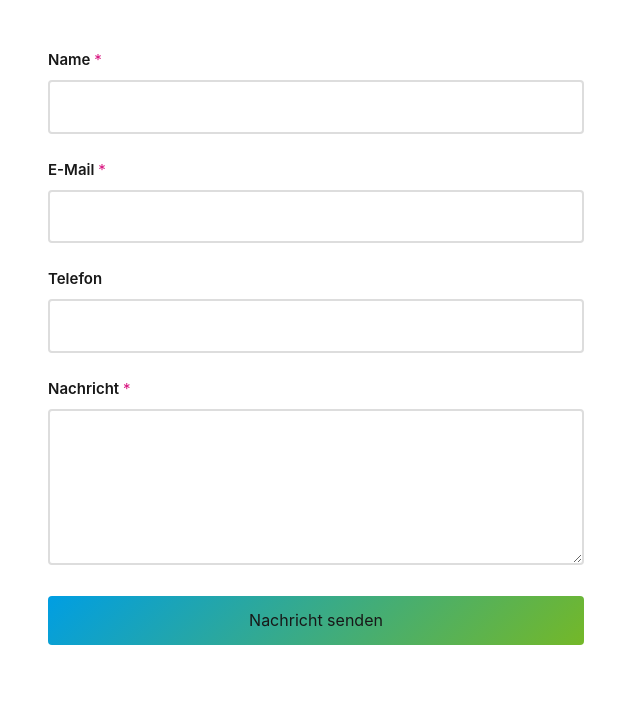
Test: ContactForm › Validierung › zeigt Fehler, wenn der Name leer ist
Type "test@example.com" into the field with id "email" at (316, 216), box [48,190,584,243]
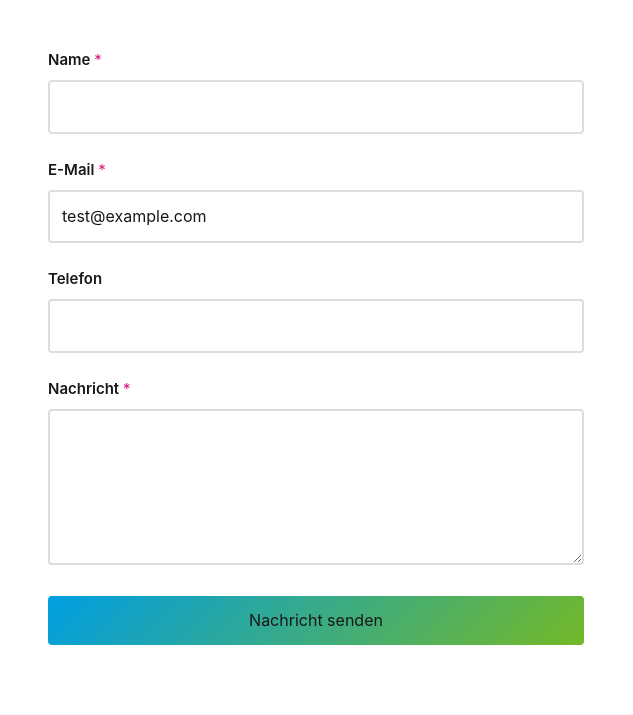
Type "Eine ausreichend lange Nachricht." into the text box with id "message" at (316, 487), box [48,409,584,565]
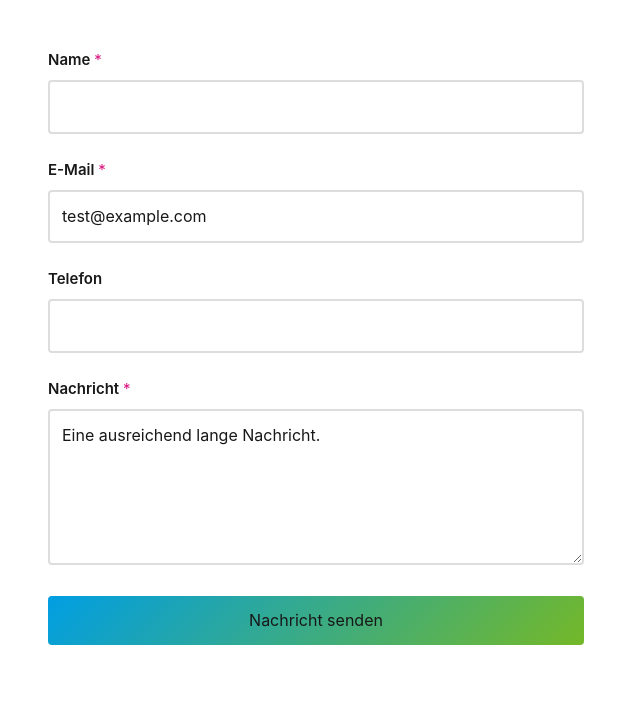
Submit the form
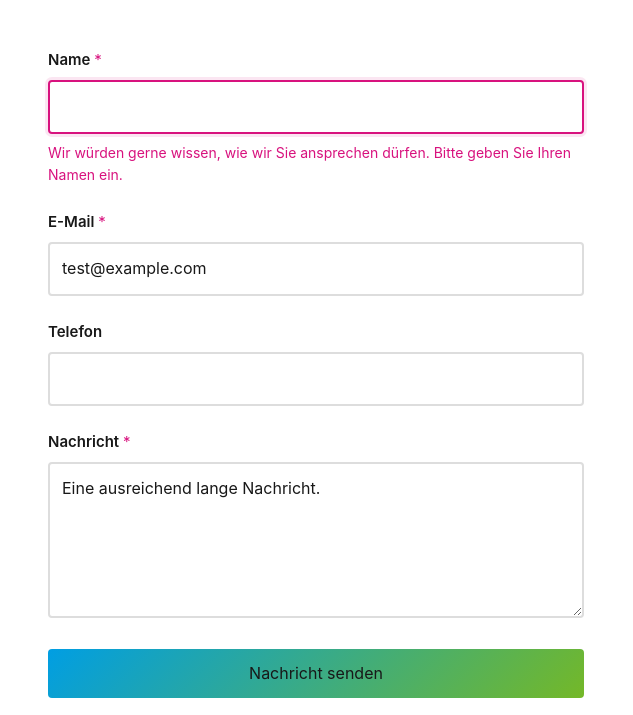
Expected: the text with id "name-error" is shown, [48,142,584,186]
Expected: the text with id "name-error" shows "Namen", [48,144,571,183]
